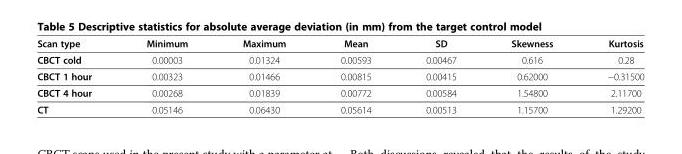table: (36, 37, 643, 114)
table column: (214, 37, 312, 114), (118, 37, 214, 114), (483, 37, 579, 114), (397, 37, 483, 114), (312, 37, 397, 114), (36, 37, 118, 114), (579, 37, 643, 114)
table column header: (36, 37, 643, 51)
table row: (36, 67, 643, 84), (36, 51, 643, 67), (36, 84, 643, 100), (36, 37, 643, 51), (36, 100, 643, 114)
